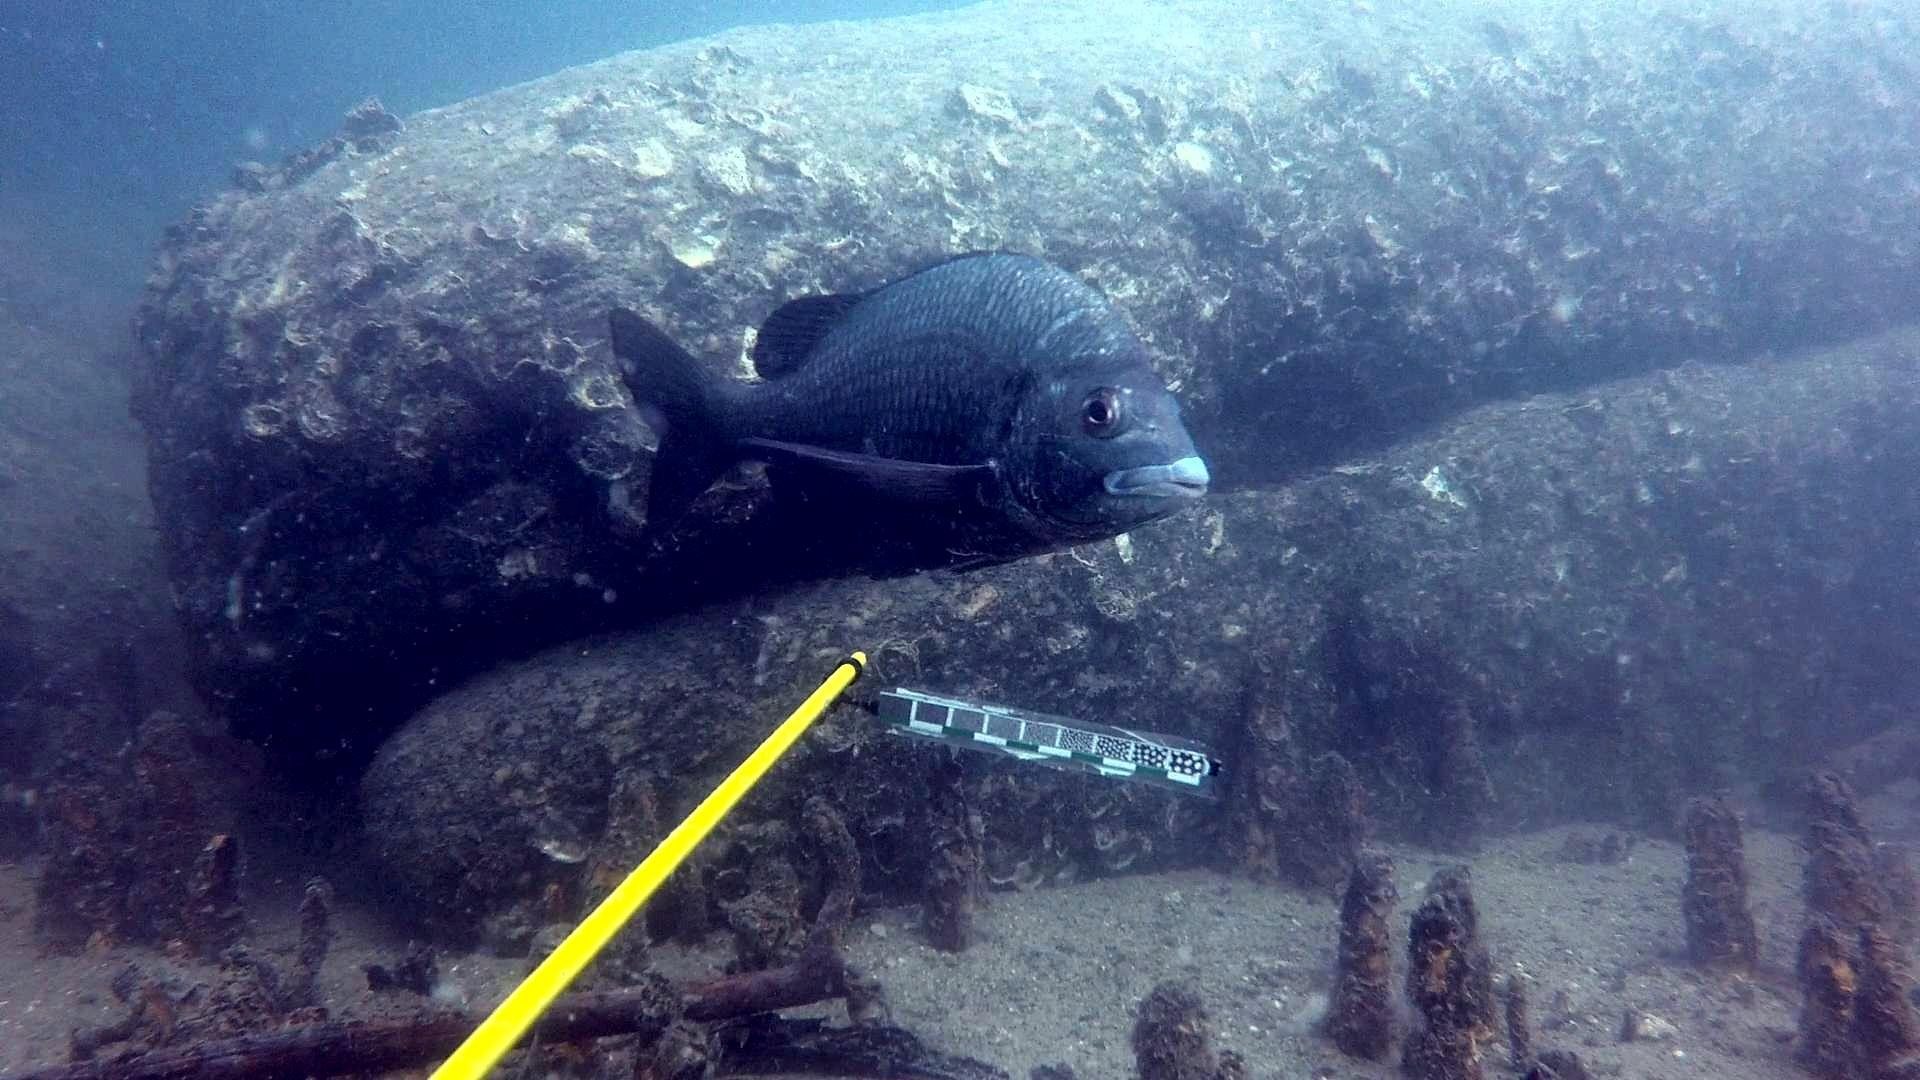acanthopagrus palmaris: (597, 236, 1220, 582)
